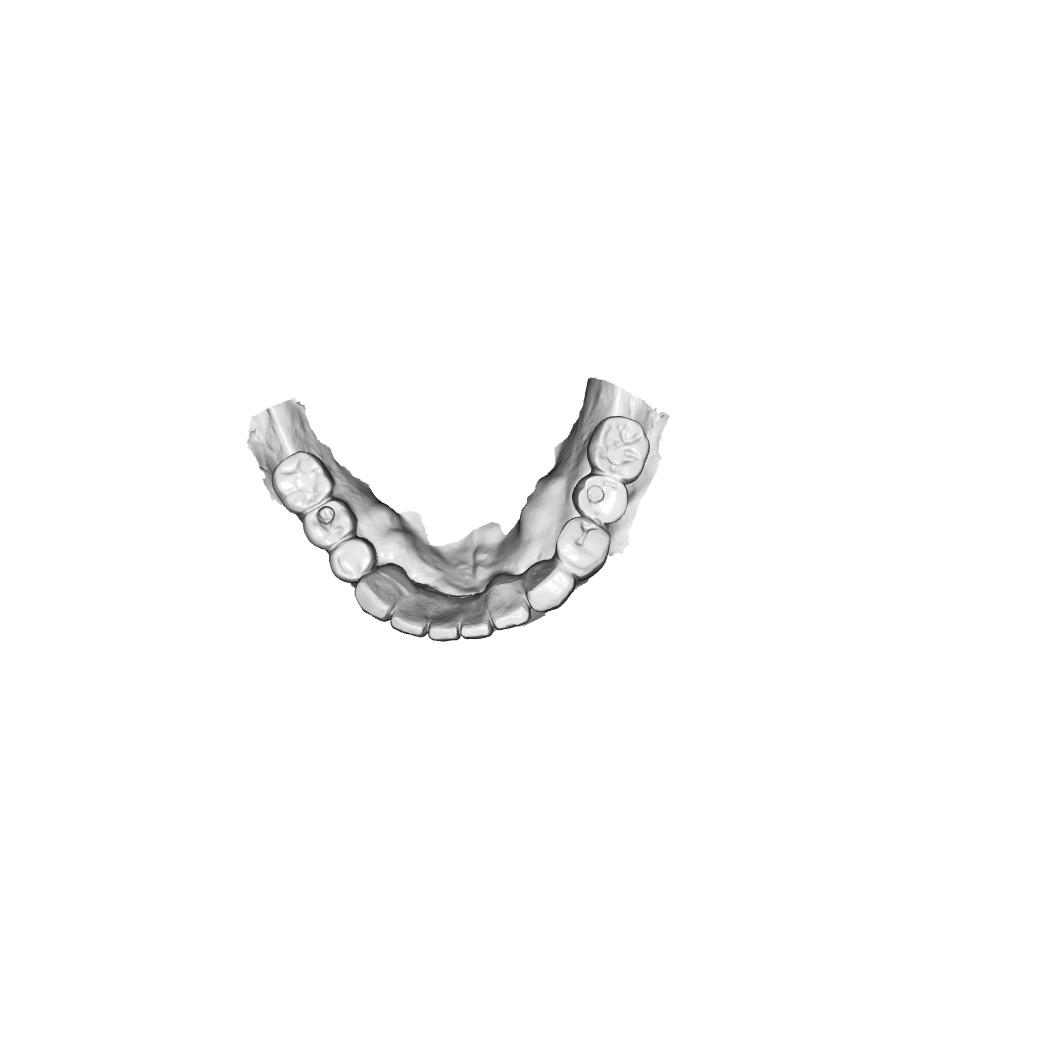canine: (354, 562, 408, 623), (526, 559, 576, 613)
incisor: (485, 573, 532, 630), (390, 590, 430, 638), (459, 596, 494, 640), (428, 595, 460, 642)
molar: (586, 416, 651, 484), (270, 450, 336, 515)
premolar: (555, 516, 612, 582), (301, 497, 359, 551), (570, 473, 629, 526), (328, 536, 377, 584)
